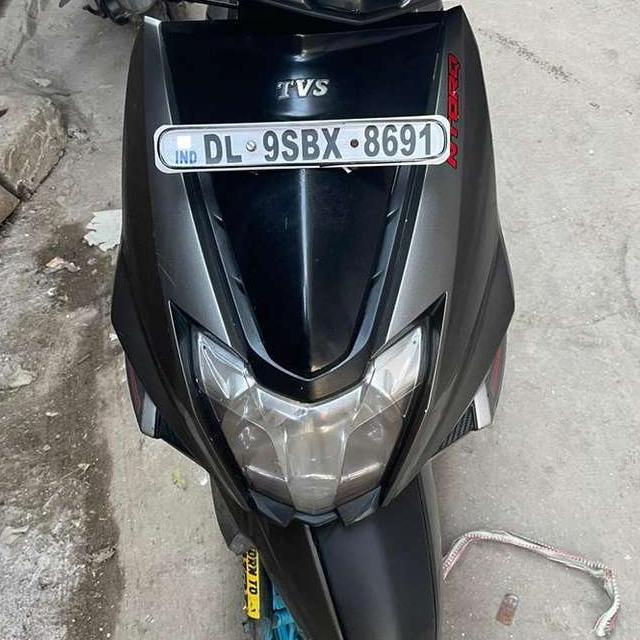Indian_Number_Plate: (160, 119, 448, 172)
